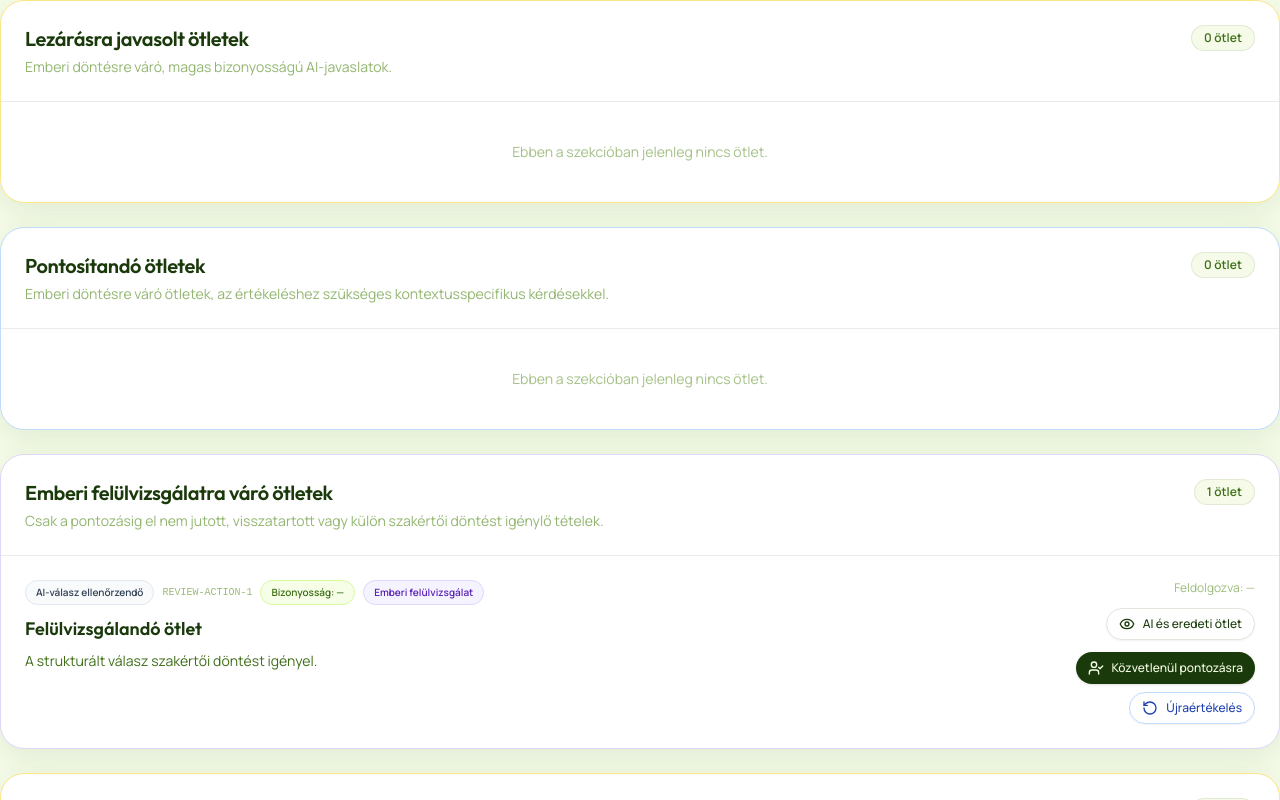
Test: ranking component behavior › unscored human-review items offer direct scoring and explain reevaluation outcomes
Expected: the element with test id "prescreen-human-review" shows "REVIEW-ACTION-1", [162,587,252,598]
Click the button "Újraértékelés" at (1192, 708), box [1129,692,1255,724]
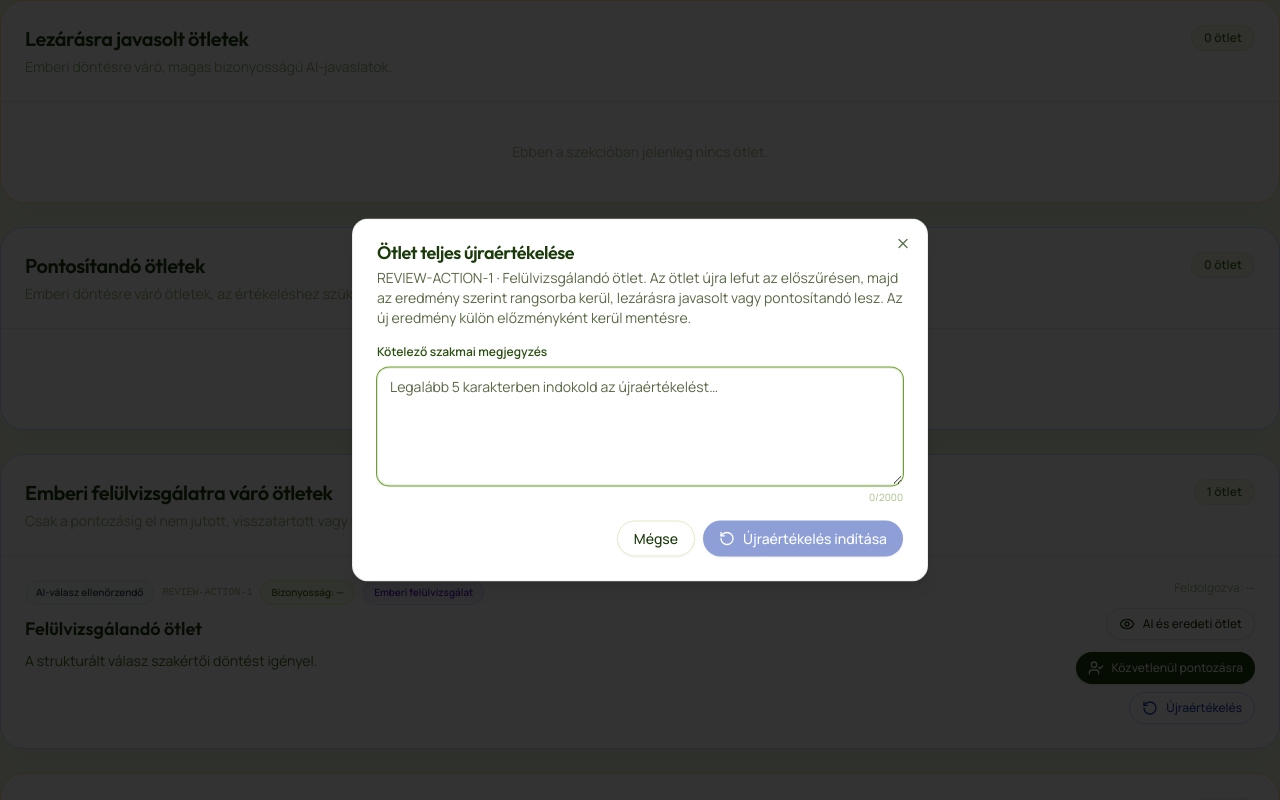
Now the text "Az ötlet újra lefut az előszűrésen" is shown, box [377,268,903,326]
Now the text "rangsorba kerül, lezárásra javasolt vagy pontosítandó lesz" is shown, box [377,268,903,326]
